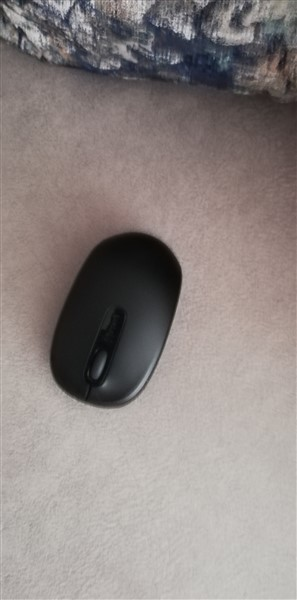mouse: (44, 226, 187, 415)
